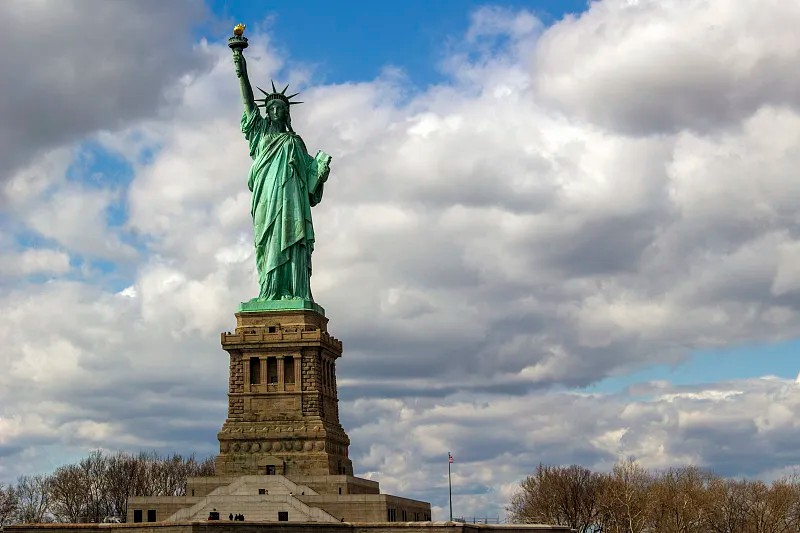SL: (215, 21, 354, 476)
